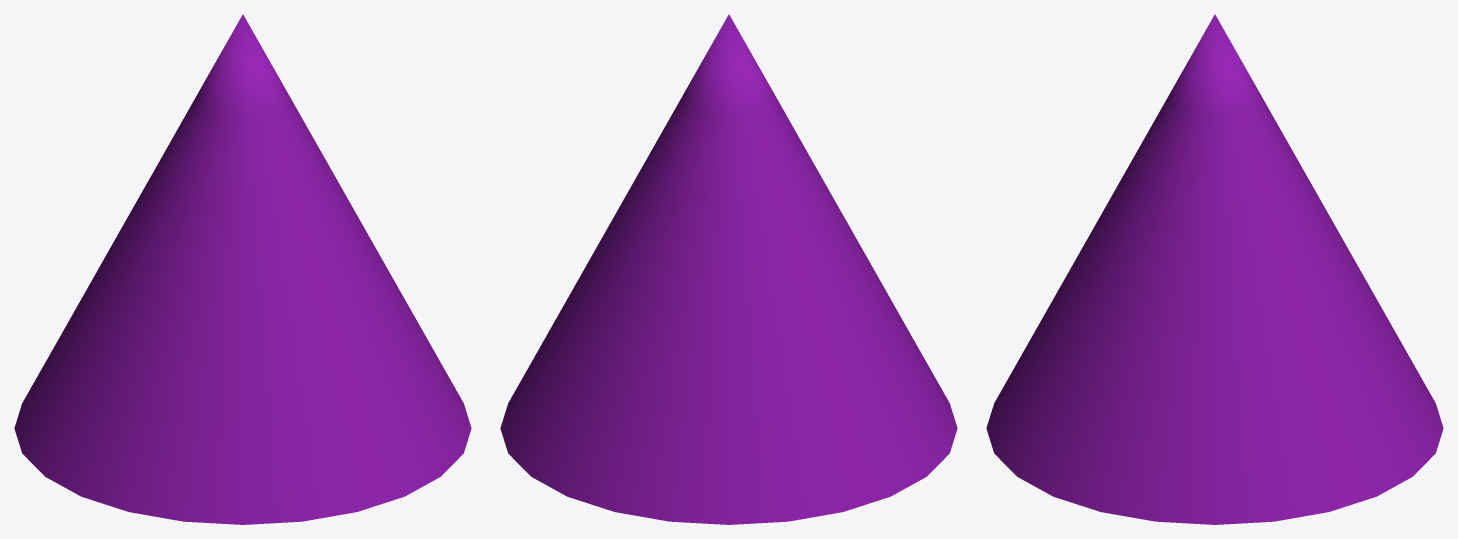
Rendered from Thorn.obj.
3 renders of one model, left to right at view 1: azimuth 30°, elevation 25°; view 2: azimuth 150°, elevation 25°; view 3: azimuth 270°, elevation 25°, orthographic.
Parts seen in each view (by area): view 1: Cone001; view 2: Cone001; view 3: Cone001.
Boxes of the visible parts, x1,y1,x2,y2 form: Cone001: (14, 14, 471, 524); Cone001: (500, 14, 957, 524); Cone001: (986, 14, 1443, 524).
Size of the model in its own units: 0.5 by 0.5 by 0.5.
